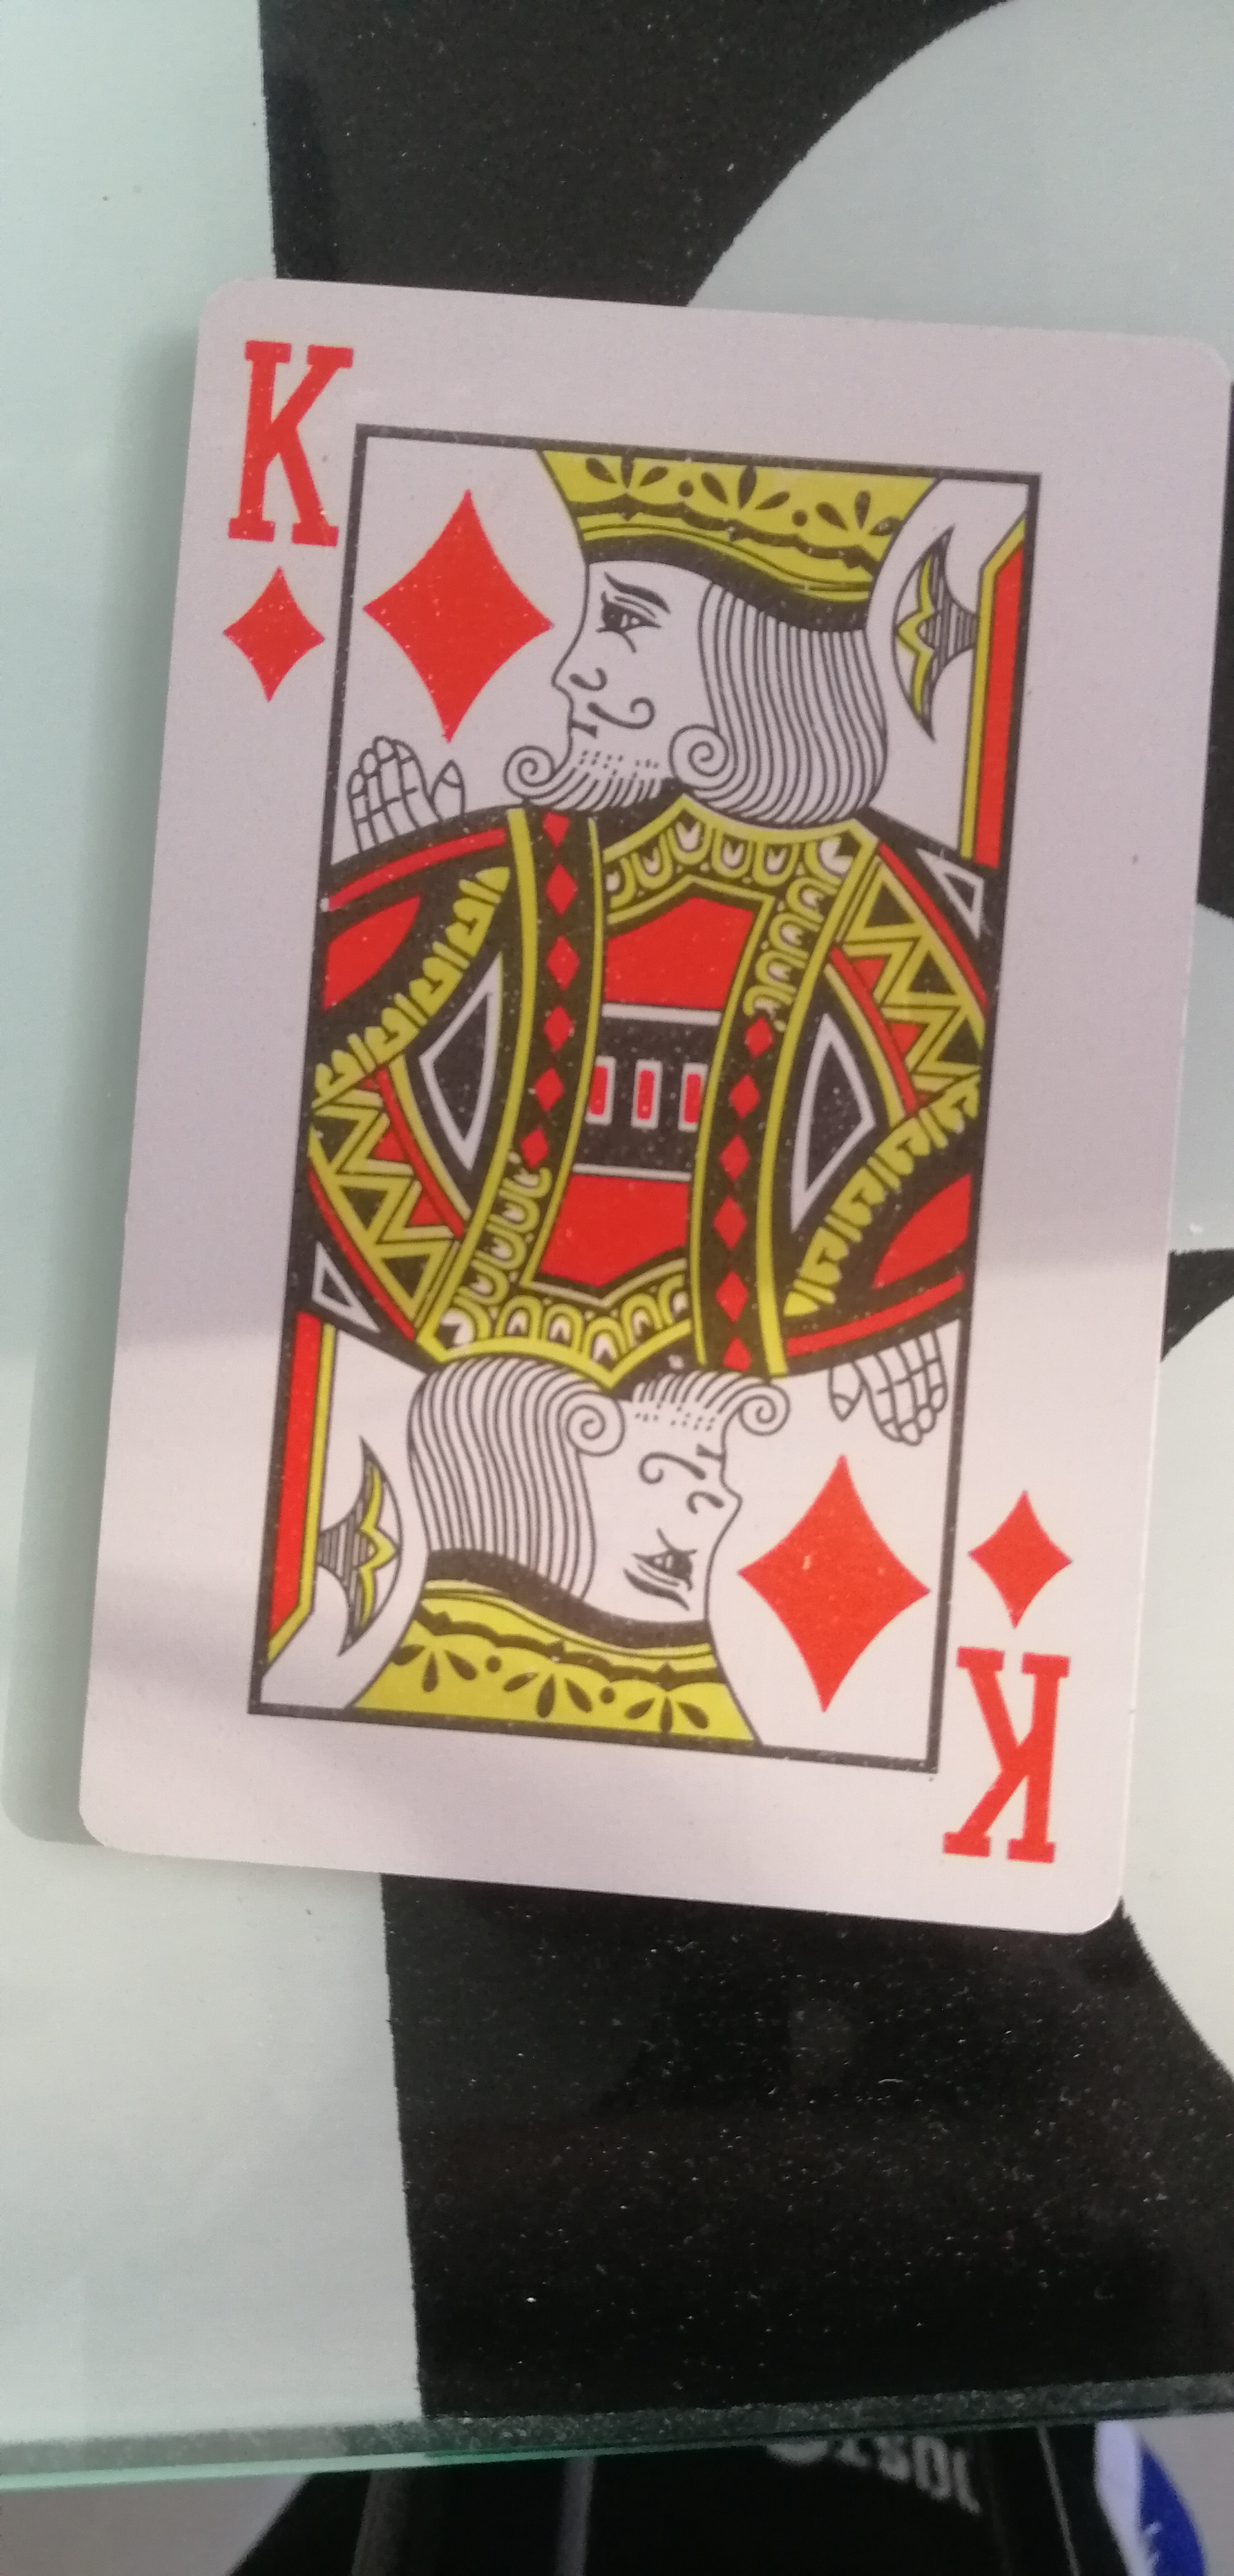king: (69, 215, 1234, 2029)
